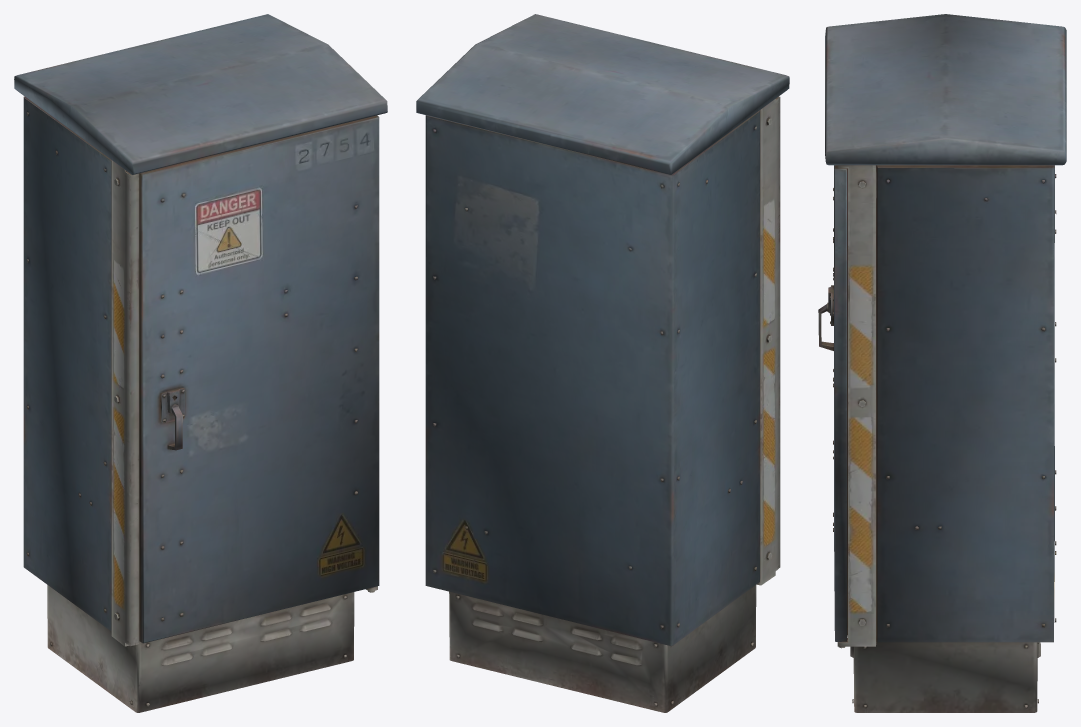
File: utility_box_01.glb
3 views of the same model, side by side, from view 1: azimuth 30°, elevation 25°; view 2: azimuth 150°, elevation 25°; view 3: azimuth 270°, elevation 25° (orthographic).
Visible parts, largest first — view 1: utility_box_01_box; view 2: utility_box_01_box; view 3: utility_box_01_box.
Part boxes in pixels (<box>): utility_box_01_box: <box>14,14,387,712</box>; utility_box_01_box: <box>416,14,789,712</box>; utility_box_01_box: <box>818,14,1066,712</box>.
Bounding box in the file's own units: 0.5182 × 1.12 × 0.4312.
1 material, 1 textured.
